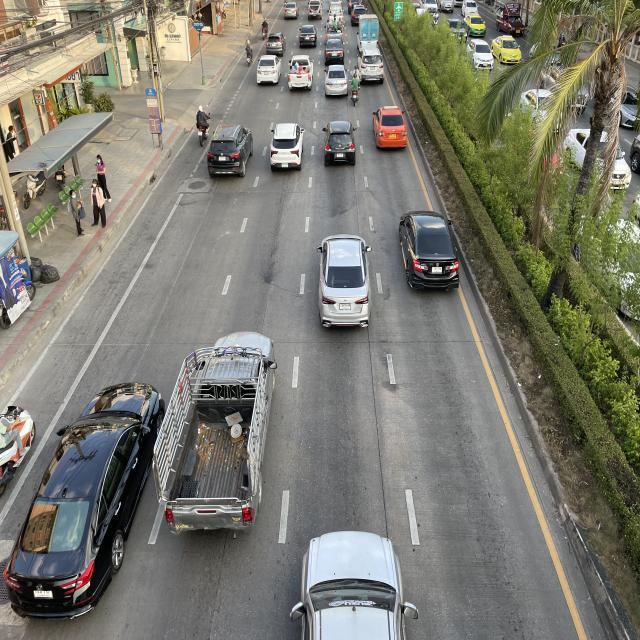bike: (0, 393, 36, 500), (195, 101, 210, 148), (349, 73, 361, 108)
car: (2, 375, 168, 623), (286, 526, 422, 640), (313, 231, 376, 332), (397, 207, 462, 294), (206, 123, 255, 181), (269, 120, 306, 174), (370, 101, 408, 152), (321, 119, 357, 168)
truck: (150, 325, 281, 534)
